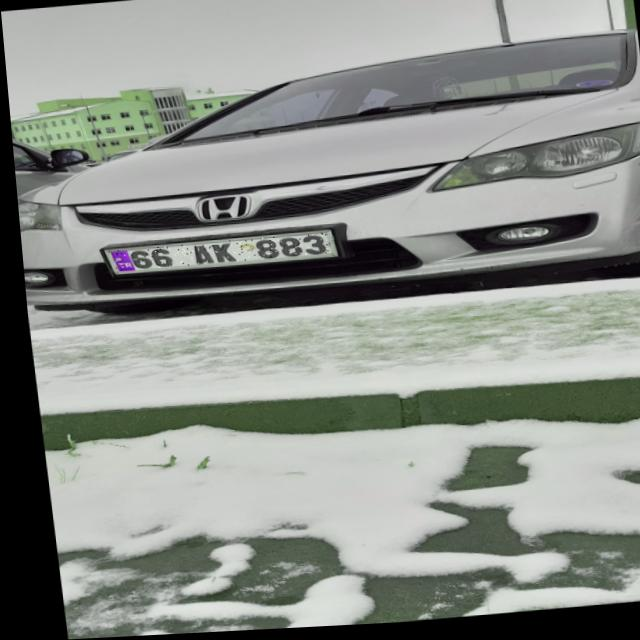license_plate: (103, 234, 329, 273)
